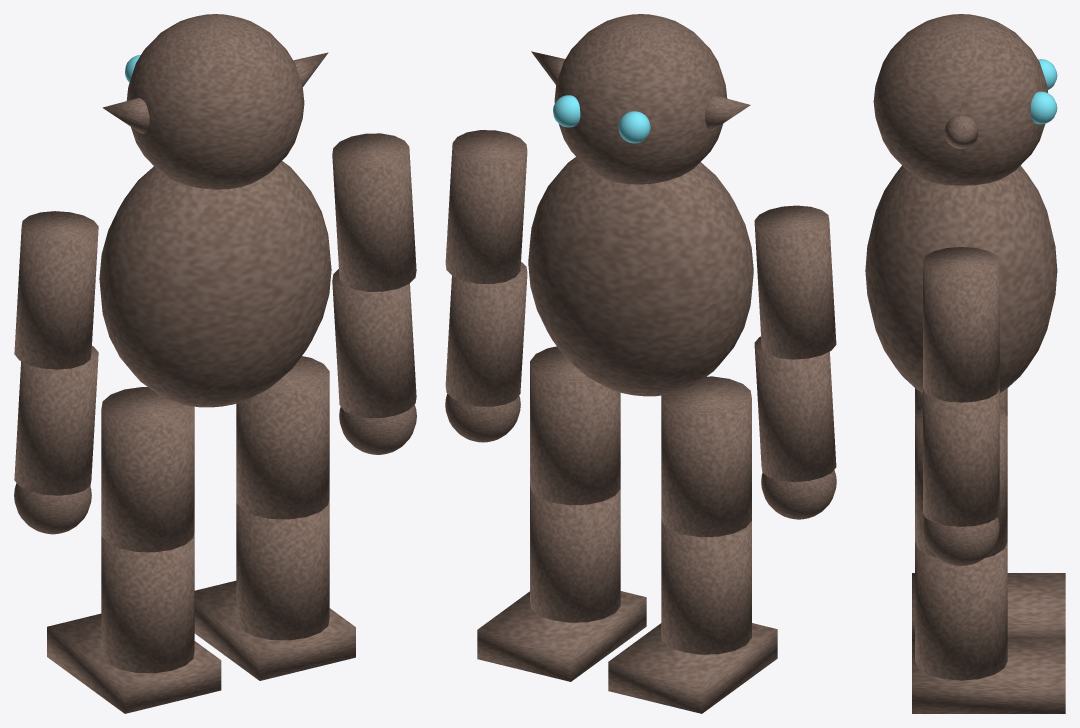
File: gremlin.glb
3 renders of one model, left to right at view 1: azimuth 30°, elevation 25°; view 2: azimuth 150°, elevation 25°; view 3: azimuth 270°, elevation 25°, orthographic. The views are drawn at different scales.
Parts seen in each view (by area): view 1: Torso, Head, ThighL, ThighR, UpperArmR, UpperArmL, ShinR, ShinL, ForearmR, ForearmL, FootL, FootR (+3 smaller); view 2: Torso, Head, ThighL, ThighR, UpperArmR, UpperArmL, ShinR, ShinL, ForearmR, ForearmL, FootR, FootL (+5 smaller); view 3: Torso, Head, UpperArmR, ShinR, ForearmR, FootR, FootL, HandR, ThighR, Ear.001, Eye.001, ThighL (+1 smaller).
Part boxes in pixels (left/top/right/bottom): Torso: left=99, top=161, right=331, bottom=407; Head: left=126, top=14, right=304, bottom=189; ThighL: left=101, top=387, right=194, bottom=552; ThighR: left=236, top=356, right=329, bottom=519; UpperArmR: left=332, top=133, right=416, bottom=291; UpperArmL: left=14, top=211, right=98, bottom=369; ShinR: left=236, top=498, right=329, bottom=640; ShinL: left=101, top=532, right=194, bottom=673; ForearmR: left=332, top=269, right=416, bottom=418; ForearmL: left=14, top=346, right=98, bottom=495; FootL: left=47, top=613, right=221, bottom=713; FootR: left=194, top=580, right=355, bottom=680; Torso: left=528, top=157, right=753, bottom=396; Head: left=554, top=14, right=727, bottom=184; ThighL: left=661, top=376, right=751, bottom=537; ThighR: left=530, top=346, right=620, bottom=505; UpperArmR: left=445, top=130, right=527, bottom=283; UpperArmL: left=754, top=205, right=836, bottom=359; ShinR: left=530, top=484, right=620, bottom=622; ShinL: left=661, top=517, right=751, bottom=654; ForearmR: left=445, top=262, right=527, bottom=406; ForearmL: left=754, top=336, right=836, bottom=481; FootR: left=477, top=591, right=646, bottom=681; FootL: left=608, top=623, right=777, bottom=713; Torso: left=865, top=165, right=1057, bottom=393; Head: left=873, top=14, right=1047, bottom=185; UpperArmR: left=923, top=247, right=999, bottom=402; ShinR: left=915, top=542, right=1007, bottom=680; ForearmR: left=923, top=389, right=999, bottom=526; FootR: left=912, top=637, right=1065, bottom=713; FootL: left=912, top=573, right=1065, bottom=637; HandR: left=923, top=517, right=999, bottom=566; ThighR: left=915, top=407, right=1007, bottom=557; Ear.001: left=944, top=115, right=978, bottom=148; Eye.001: left=1030, top=91, right=1057, bottom=124; ThighL: left=915, top=388, right=1007, bottom=416.
Size of the model in its own units: 0.6367 by 1 by 0.2852.
3 materials, 2 textured.
